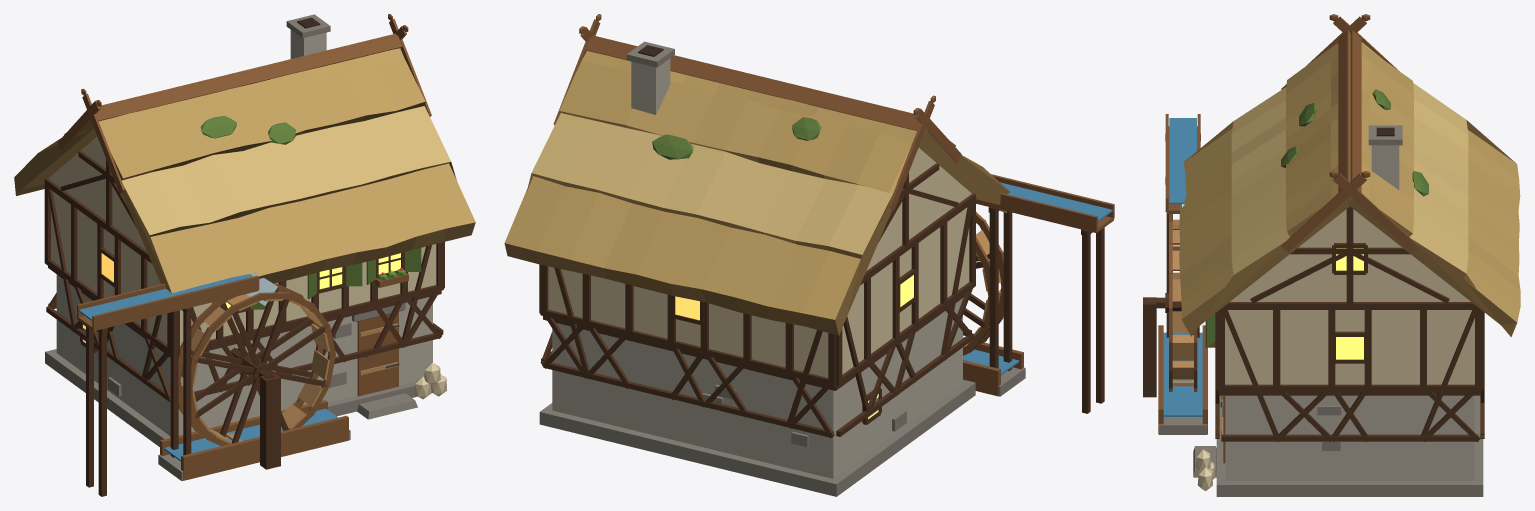
File: Dorf_Muehle.fbx
3 views of the same model, side by side, from view 1: azimuth 30°, elevation 25°; view 2: azimuth 150°, elevation 25°; view 3: azimuth 270°, elevation 25° (orthographic). The views are drawn at different scales.
Parts seen in each view (by area): view 1: Dorf_Muehle, Muehlrad; view 2: Dorf_Muehle, Muehlrad; view 3: Dorf_Muehle, Muehlrad.
Boxes of the visible parts, x1,y1,x2,y2 form: Dorf_Muehle: [14, 14, 475, 496]; Muehlrad: [178, 283, 335, 445]; Dorf_Muehle: [504, 14, 1114, 496]; Muehlrad: [963, 212, 1003, 355]; Dorf_Muehle: [1143, 14, 1520, 496]; Muehlrad: [1165, 214, 1197, 391].
Bounding box in the file's own units: 10.71 × 8.42 × 8.49.
